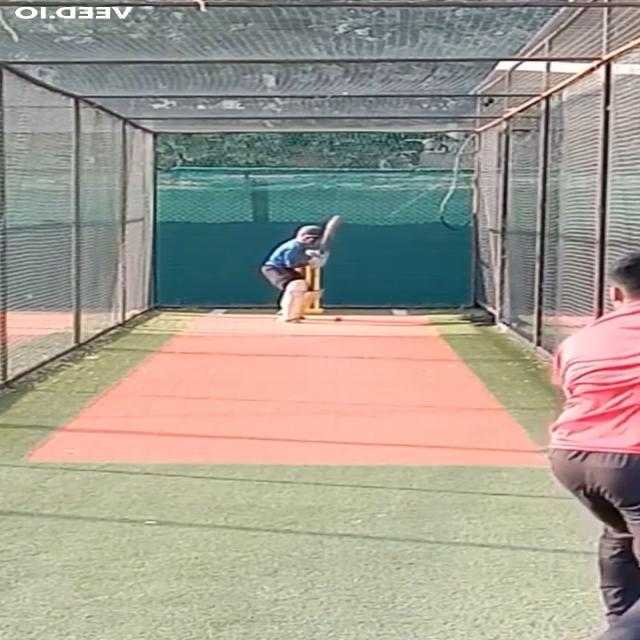ball: (334, 316, 343, 322)
stump: (302, 268, 324, 315)
